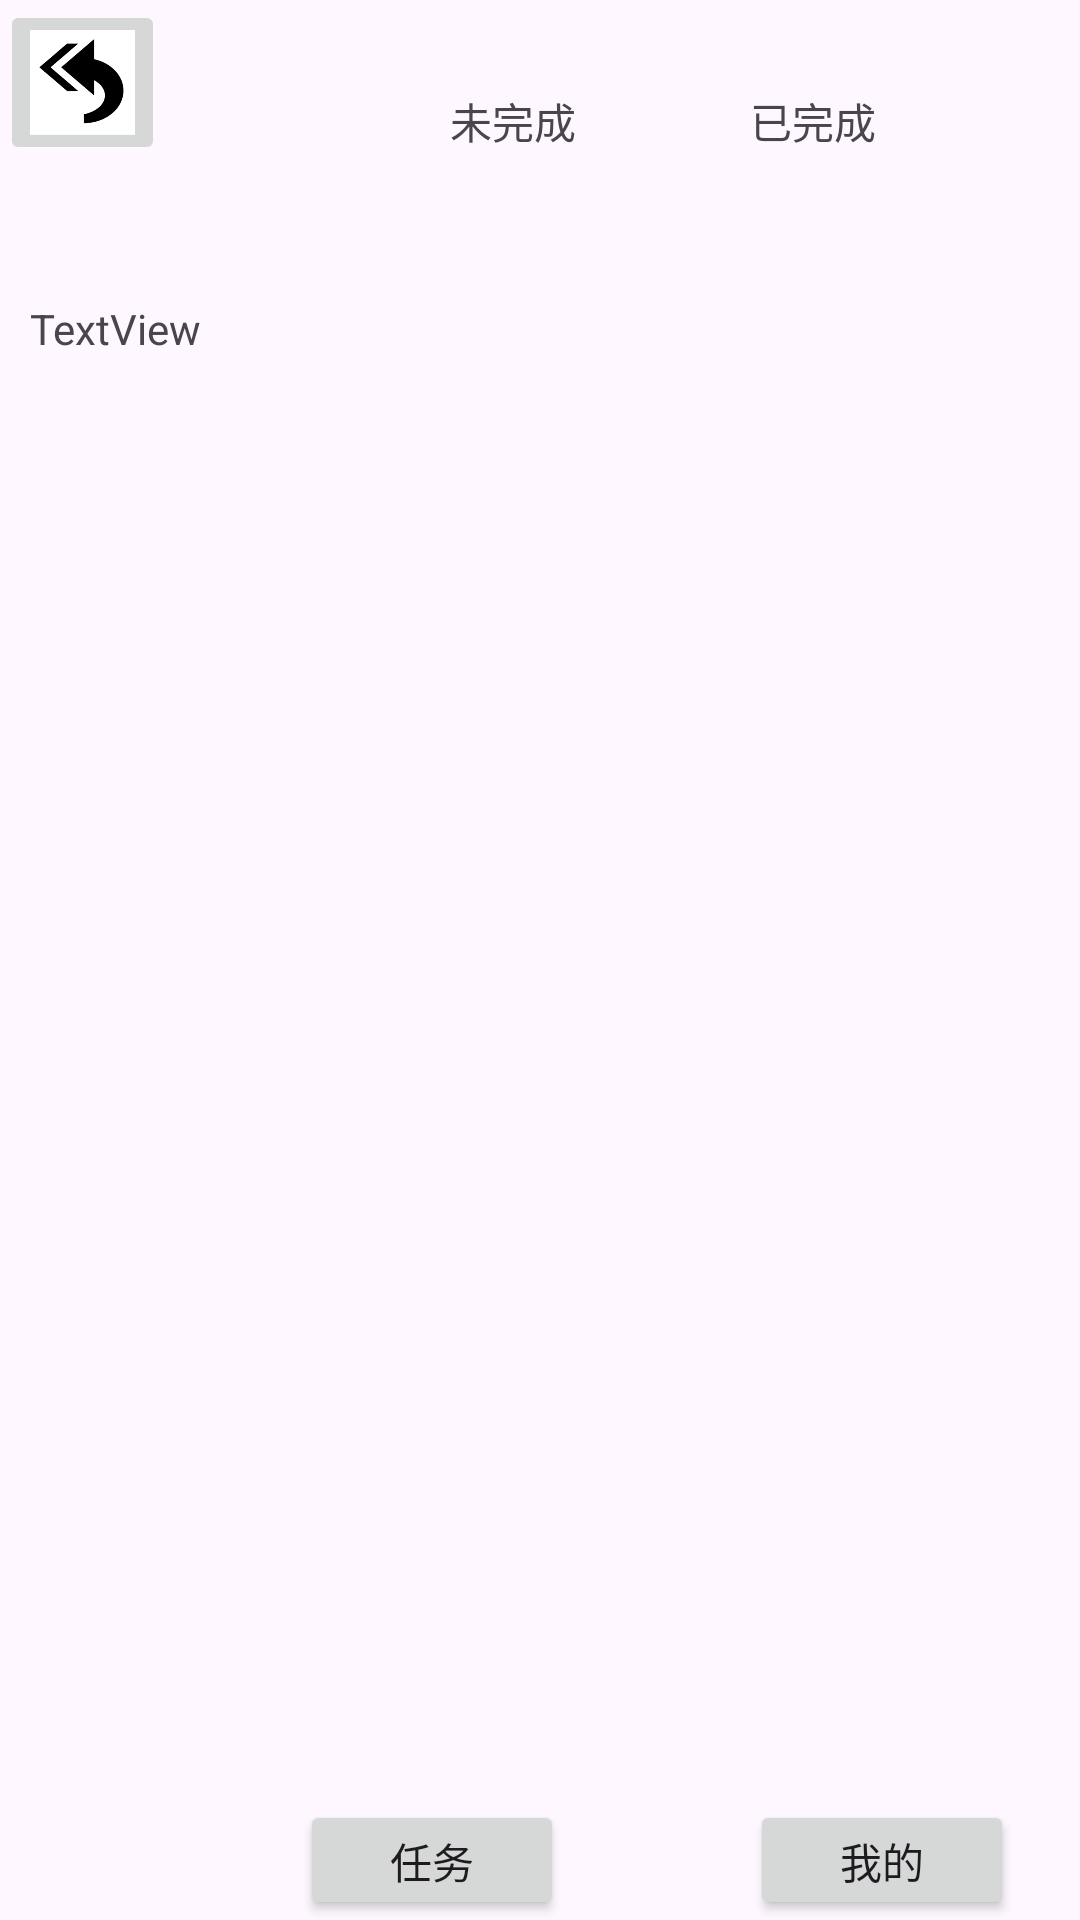

Icons on this 1080*1920 Android screen, each with its box as {"x1": x1, "y1": y1, "x2": x2, "y2": y2}:
back: {"x1": 12, "y1": 18, "x2": 153, "y2": 147}
